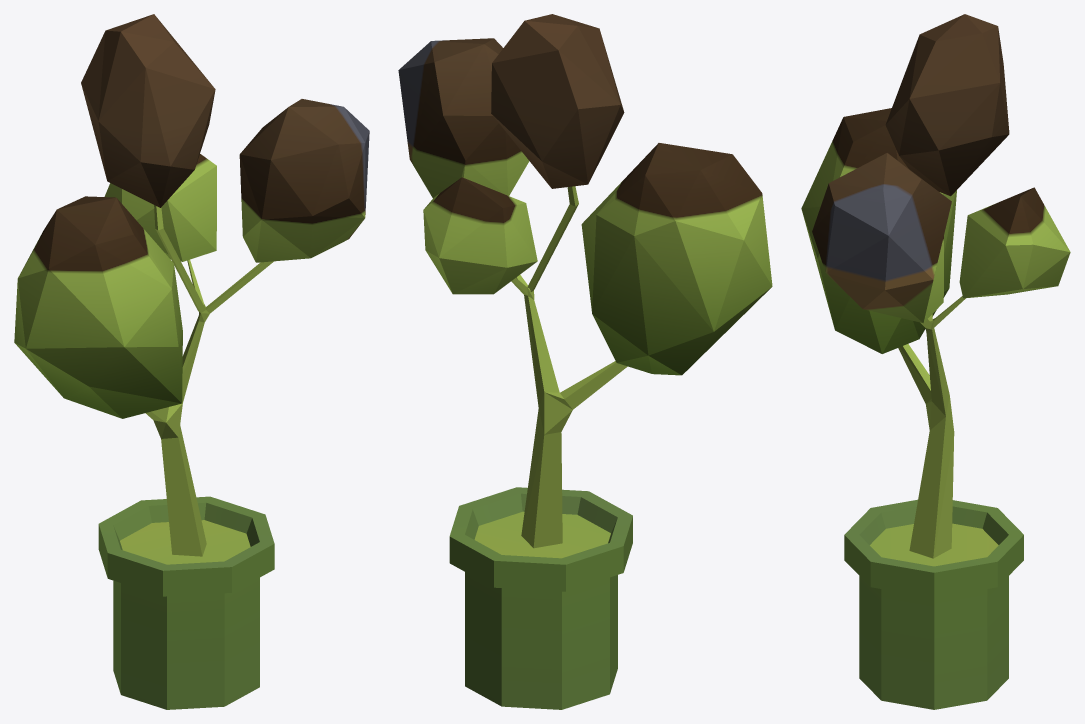
File: Pot_08.fbx
3 views of the same model, side by side, from view 1: azimuth 30°, elevation 25°; view 2: azimuth 150°, elevation 25°; view 3: azimuth 270°, elevation 25° (orthographic). The views are drawn at different scales.
Visible parts, largest first — view 1: Pot_08; view 2: Pot_08; view 3: Pot_08.
Part boxes in pixels (x1=…): Pot_08: x1=14, y1=14, x2=369, y2=709; Pot_08: x1=398, y1=14, x2=772, y2=709; Pot_08: x1=801, y1=14, x2=1070, y2=709.
Bounding box in the file's own units: 0.7231 × 1.28 × 0.4863.
